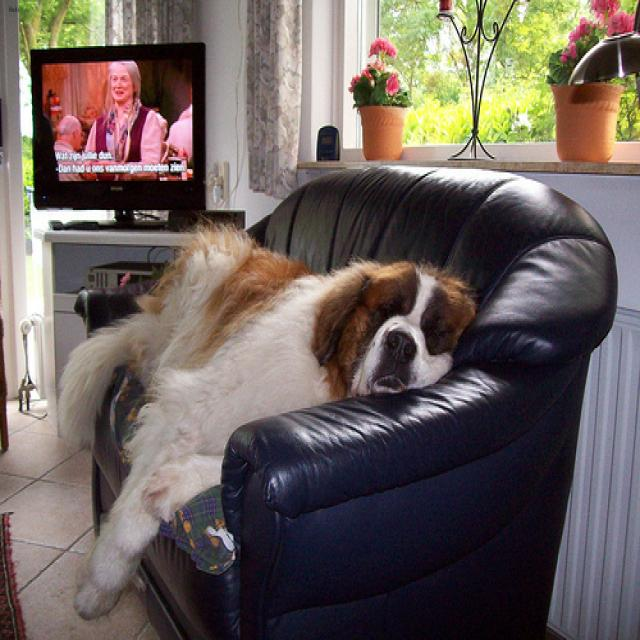dog-saint_bernard: (51, 210, 483, 628)
